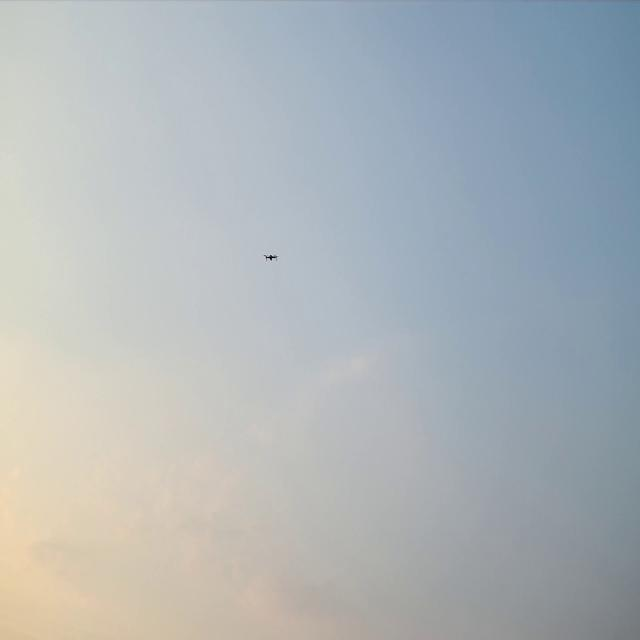UAV: (264, 252, 278, 261)
